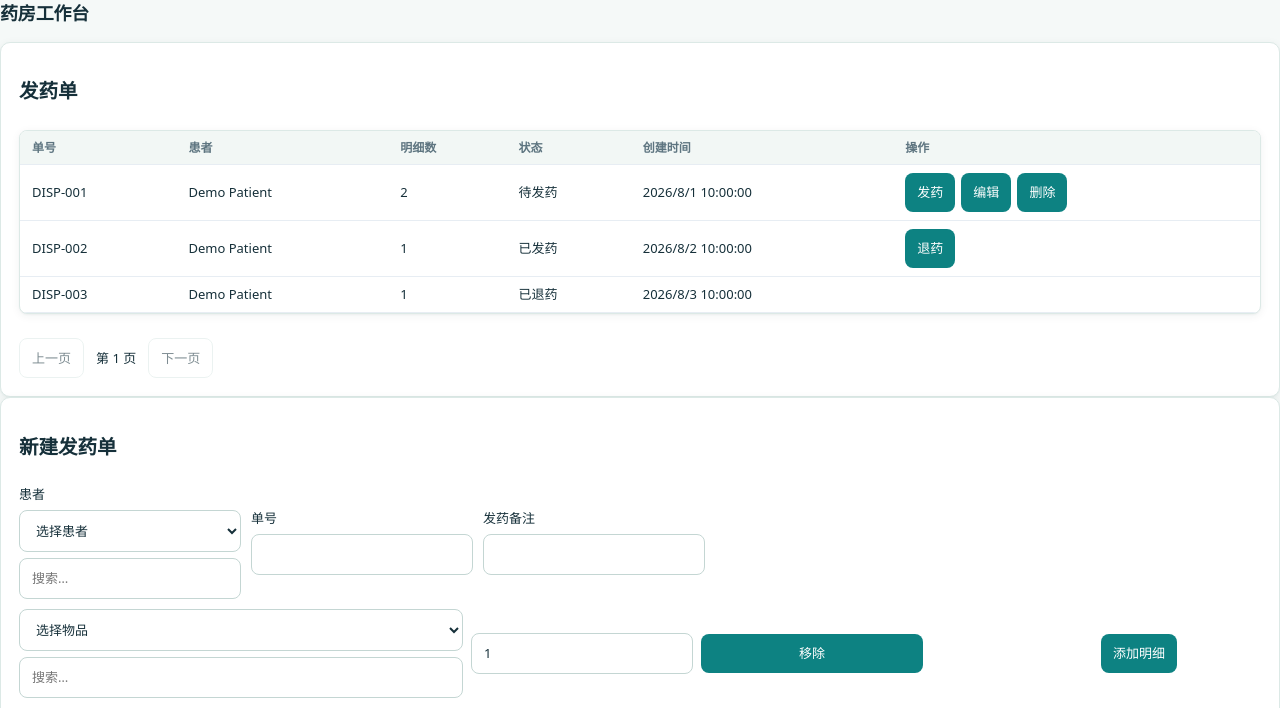
Scenario: DispenseWorkbenchPage › deletes a PENDING dispense after confirmation
Expected: the text "DISP-001" is shown, [20,165,176,220]
Click the button "删除" at {"x": 1042, "y": 192}, box [1017,173,1067,212]
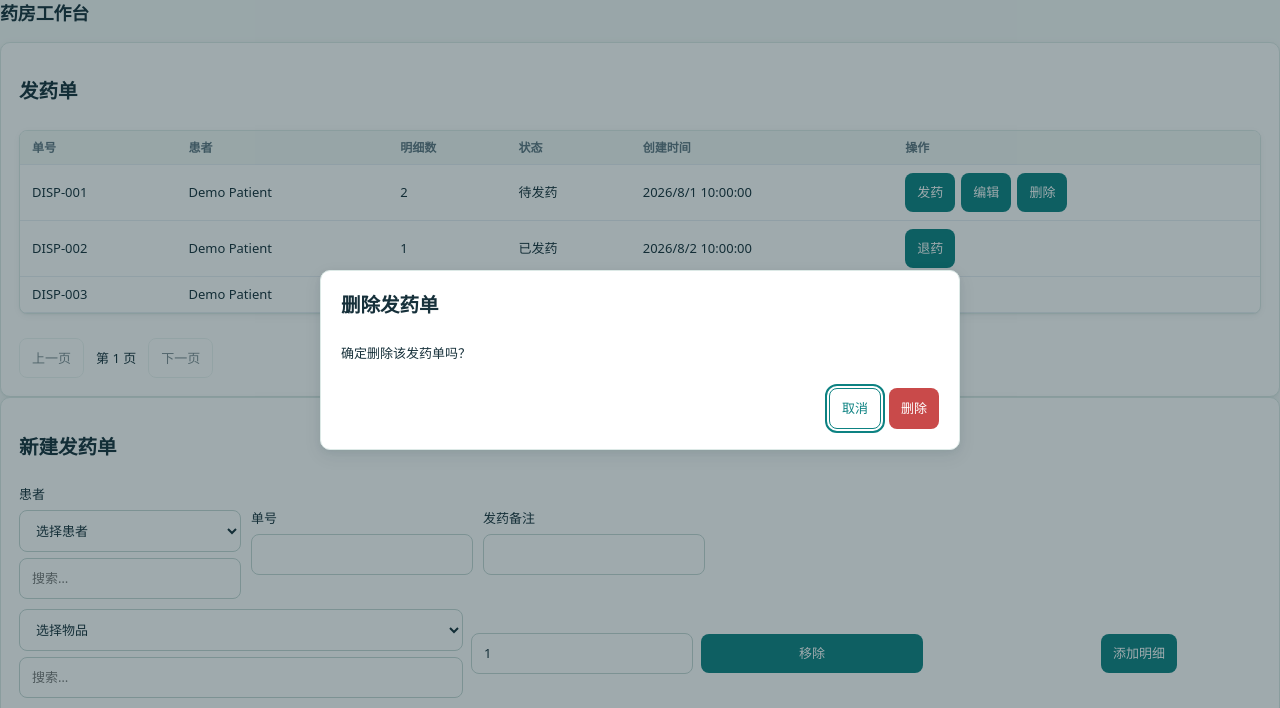
Now the text "确定删除该发药单吗？" is shown, box [341,344,471,362]
Click the button "删除" at {"x": 914, "y": 408}, box [889,388,939,429]
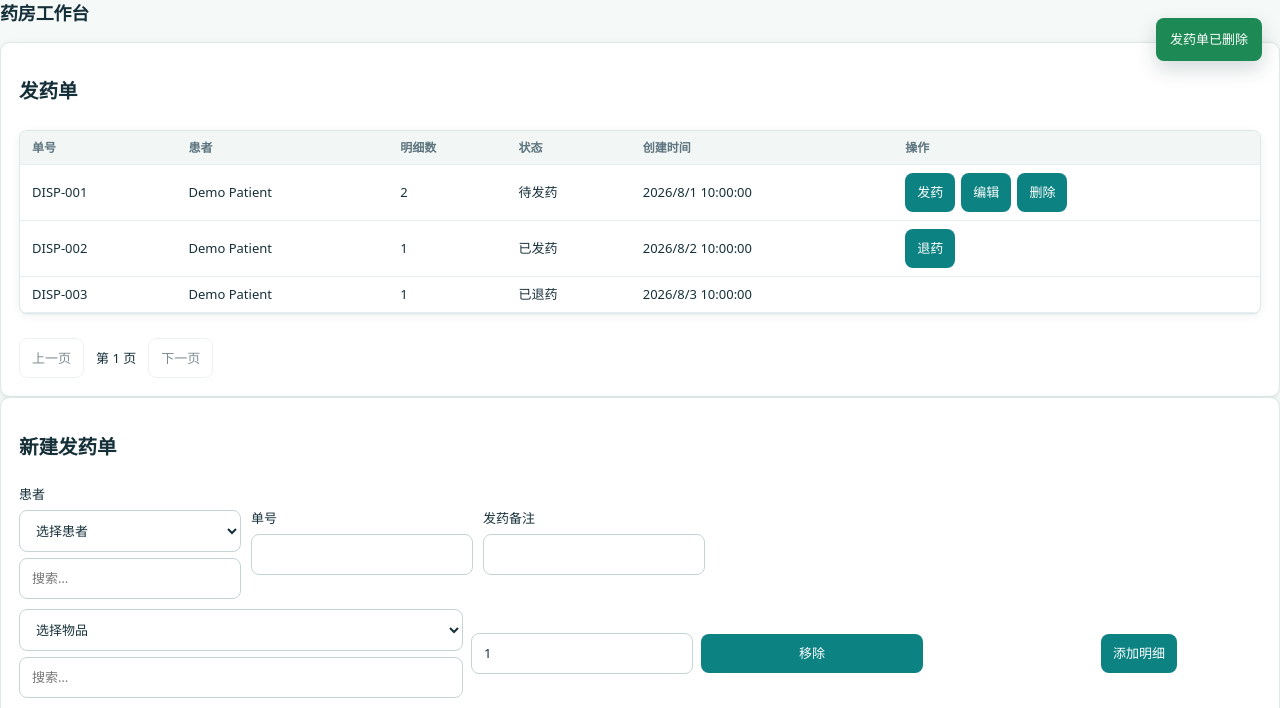
Now the text "发药单已删除" is shown, box [1156,18,1262,61]
